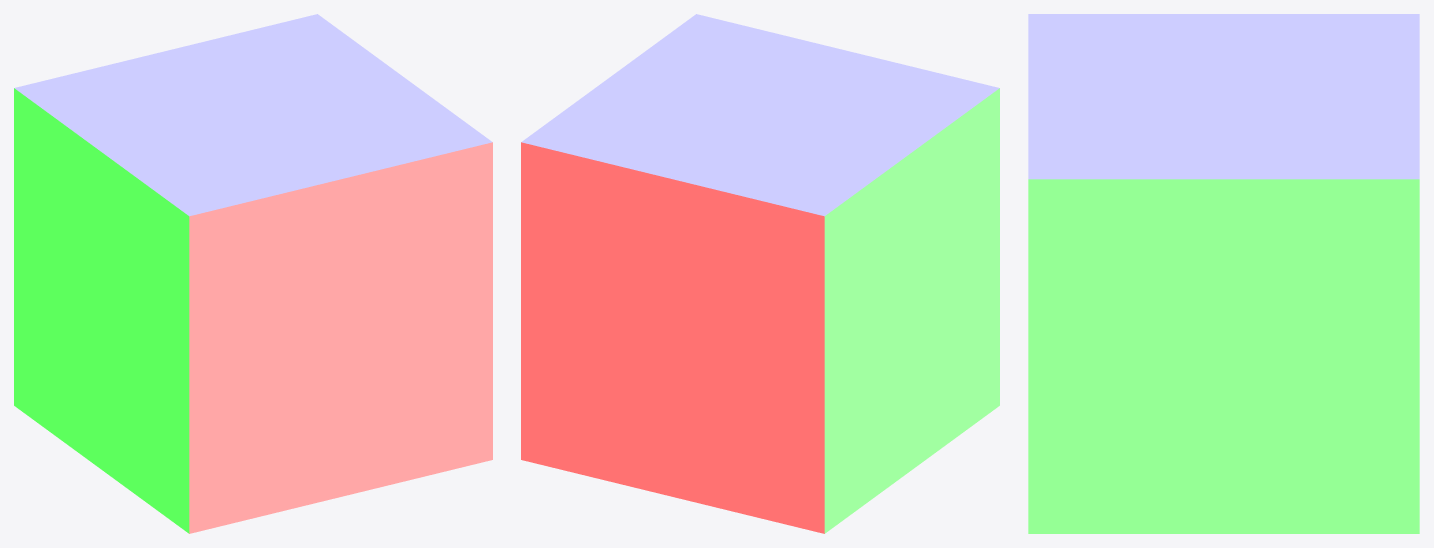
Rendered from welcome-animation.glb.
3 views of the same model, side by side, from view 1: azimuth 30°, elevation 25°; view 2: azimuth 150°, elevation 25°; view 3: azimuth 270°, elevation 25° (orthographic). The views are drawn at different scales.
Parts seen in each view (by area): view 1: Cube; view 2: Cube; view 3: Cube.
Part boxes in pixels (bbox=[...]): Cube: bbox=[14, 14, 492, 533]; Cube: bbox=[521, 14, 999, 533]; Cube: bbox=[1028, 14, 1419, 533].
Bounding box in the file's own units: 15.34 × 15.34 × 15.34.
